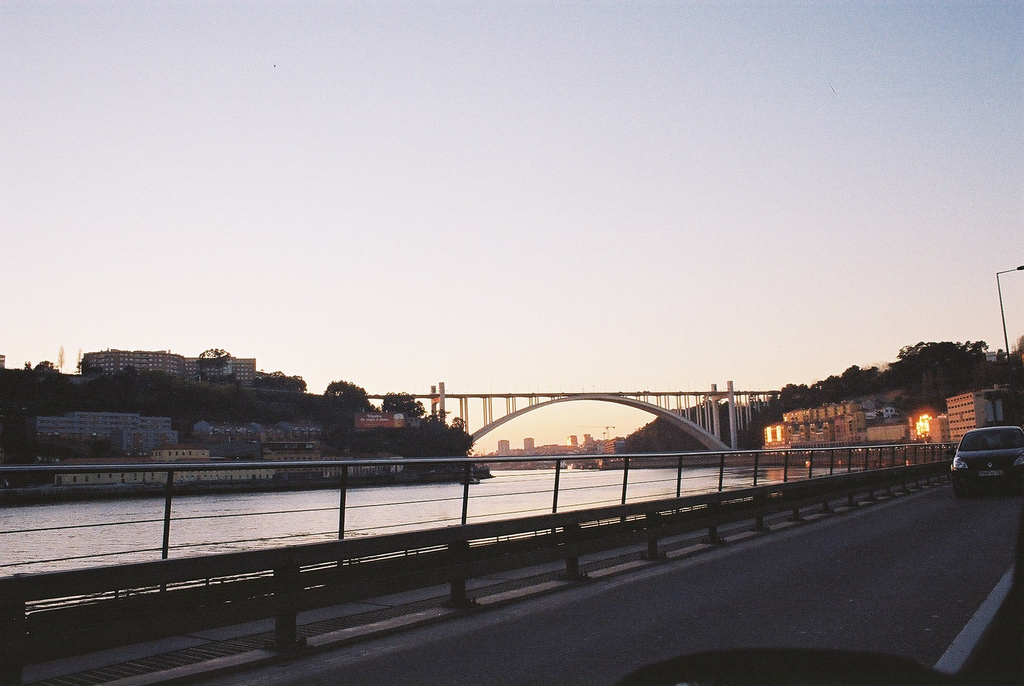arrabida: (371, 380, 793, 456)
